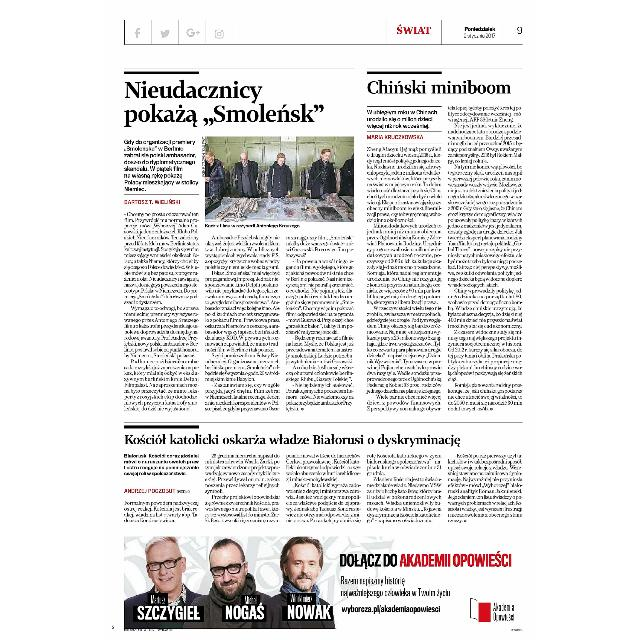article: (120, 65, 360, 415), (364, 65, 526, 415), (121, 422, 525, 532)
